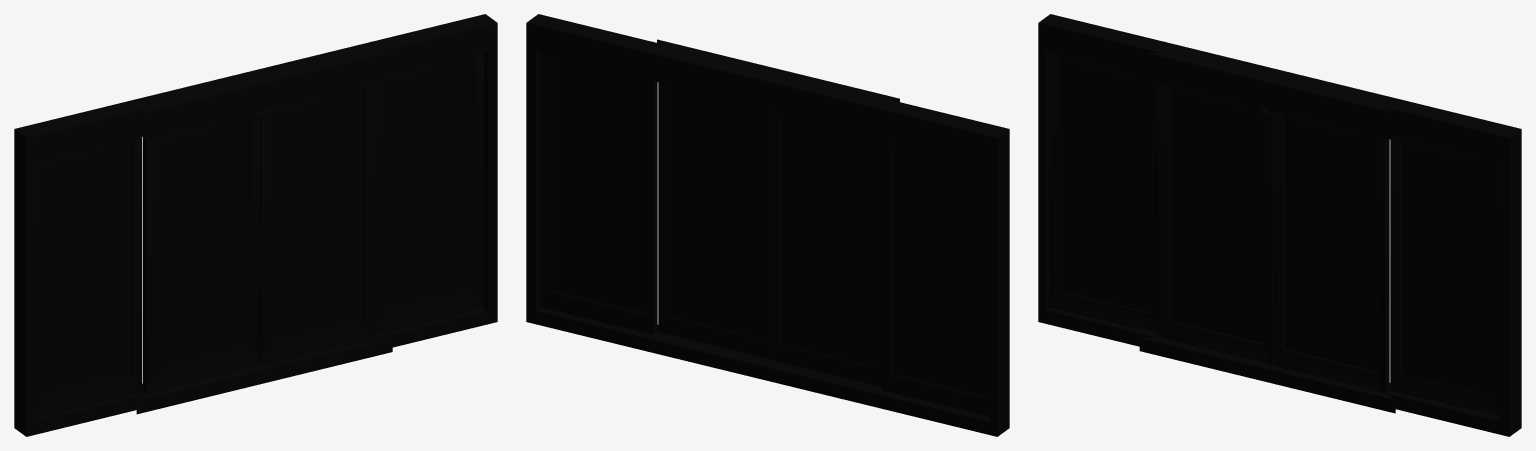
The model's file is Puerta.fbx.
The picture shows the model from 3 angles, left to right: view 1: azimuth 30°, elevation 25°; view 2: azimuth 150°, elevation 25°; view 3: azimuth 330°, elevation 25°; orthographic projection.
Parts seen in each view (by area): view 1: MarcoPuerta, PuertaIzquierda, PuertaDerecha; view 2: MarcoPuerta, PuertaDerecha, PuertaIzquierda; view 3: MarcoPuerta, PuertaDerecha, PuertaIzquierda.
Part boxes in pixels (x1,y1,x2,y2): MarcoPuerta: [14, 14, 497, 436]; PuertaIzquierda: [143, 114, 260, 393]; PuertaDerecha: [260, 83, 374, 365]; MarcoPuerta: [526, 14, 1009, 436]; PuertaDerecha: [658, 82, 771, 359]; PuertaIzquierda: [771, 110, 882, 386]; MarcoPuerta: [1038, 14, 1521, 436]; PuertaDerecha: [1272, 113, 1389, 393]; PuertaIzquierda: [1159, 83, 1272, 364].
Bounding box in the file's own units: 18.02 × 10.93 × 1.1.
2 materials, 2 textured.
